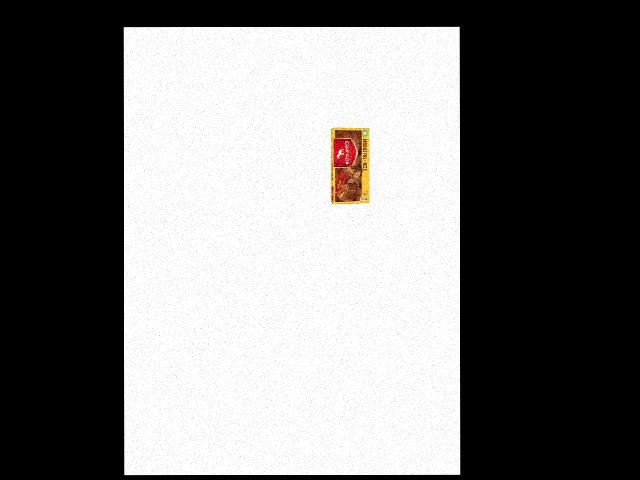chocolate: (329, 127, 376, 205)
